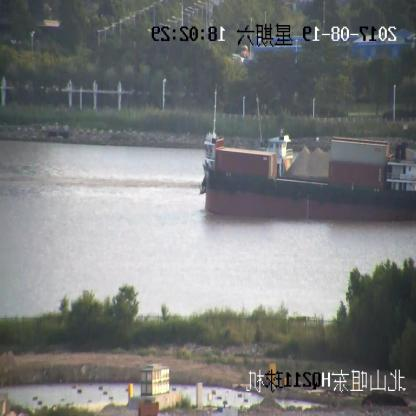Container Ship: (201, 129, 416, 220)
